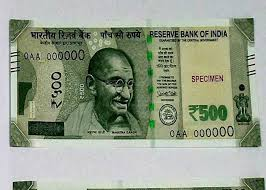fiveHundred: (22, 39, 239, 125)
